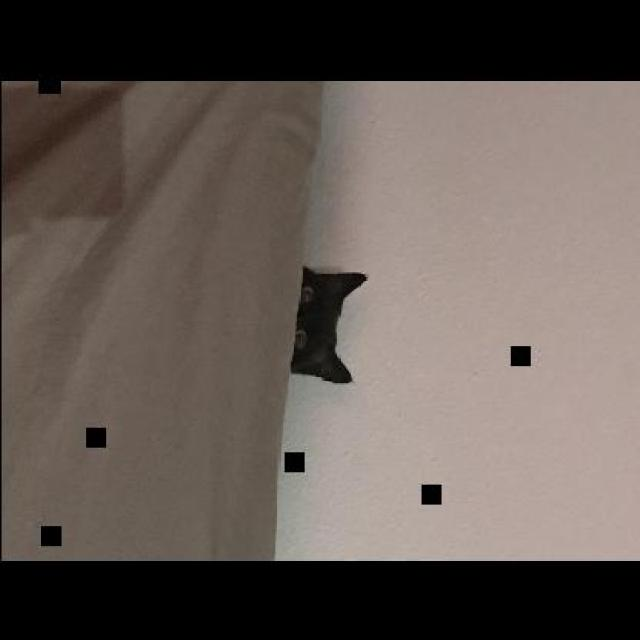unauthorized: (289, 265, 368, 383)
